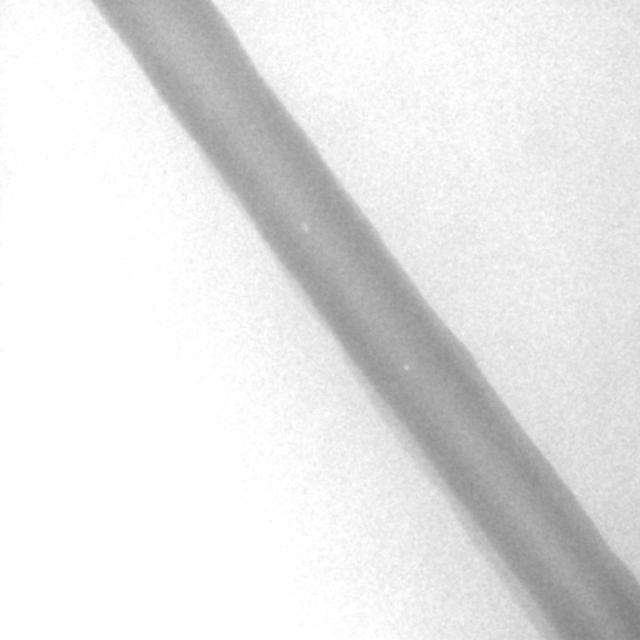air hole: (300, 221, 311, 235), (401, 361, 410, 371)
